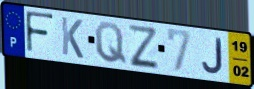7: (165, 27, 195, 74)
F: (24, 9, 56, 56)
J: (201, 36, 225, 75)
K: (60, 15, 85, 61)
Q: (94, 21, 128, 66)
Z: (126, 22, 161, 69)
